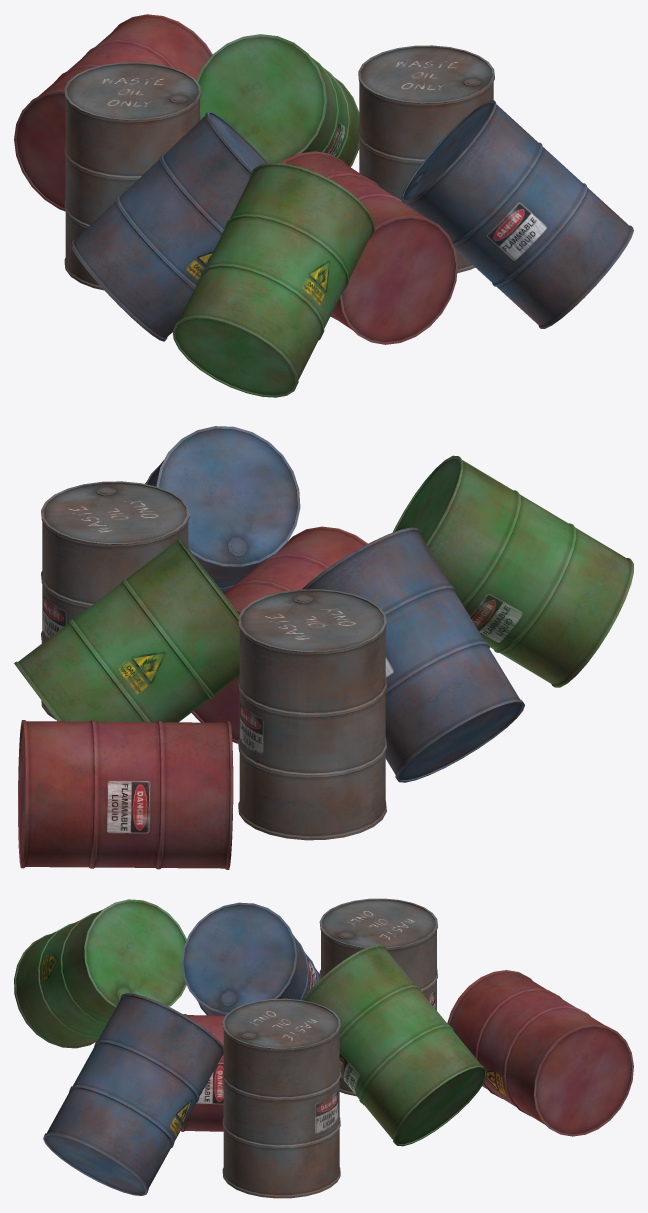
Rendered from radioactiveTrash.fbx.
3 views of the same model, one above another, from view 1: azimuth 30°, elevation 25°; view 2: azimuth 150°, elevation 25°; view 3: azimuth 270°, elevation 25° (orthographic). The views are drawn at different scales.
Parts seen in each view (by area): view 1: polySurface14; view 2: polySurface14; view 3: polySurface14.
Part boxes in pixels (x1=…): polySurface14: x1=14, y1=14, x2=633, y2=397; polySurface14: x1=14, y1=426, x2=633, y2=869; polySurface14: x1=14, y1=898, x2=633, y2=1198.
Bounding box in the file's own units: 11.94 × 5.37 × 16.19.
Materials: 4 (4 with a texture image).
